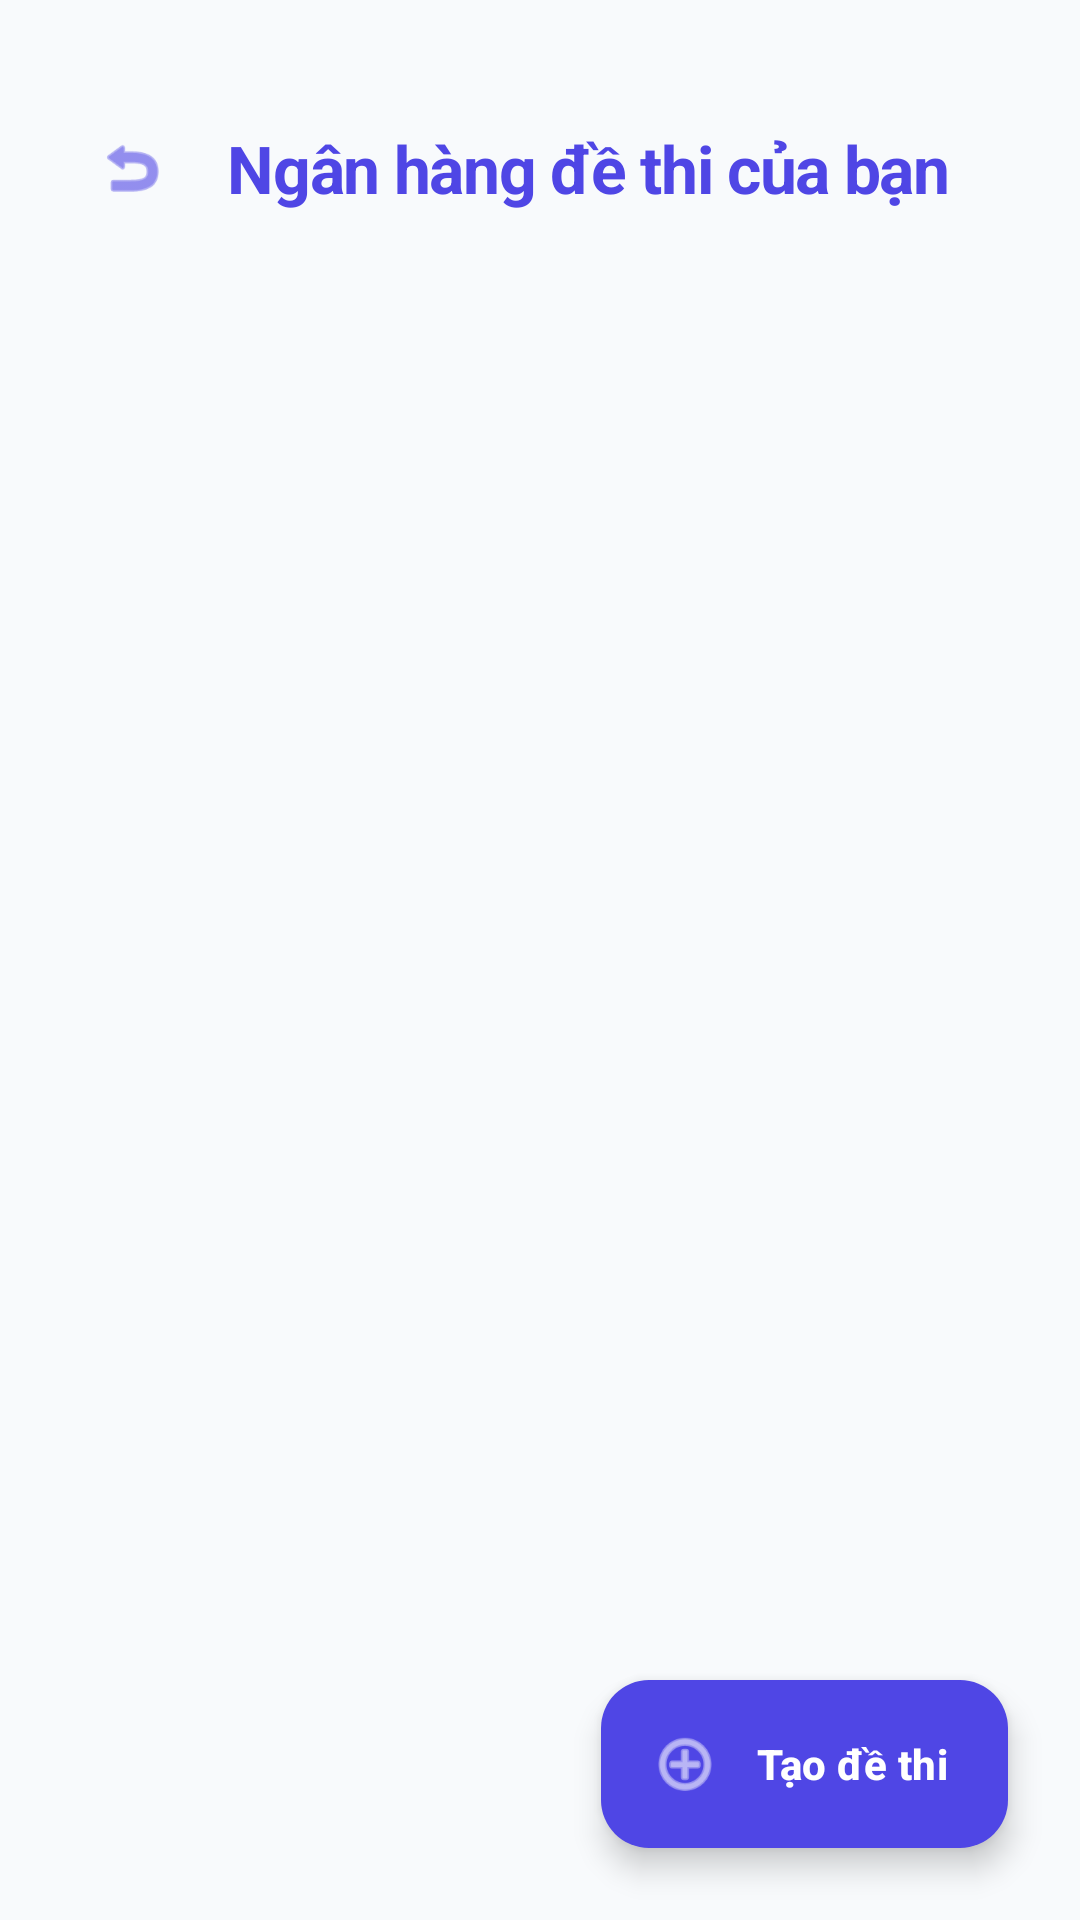

Icons on this 1080 × 1920 Android screen, each with the point to tap as (x=x, y=y):
revert: (x=133, y=168)
